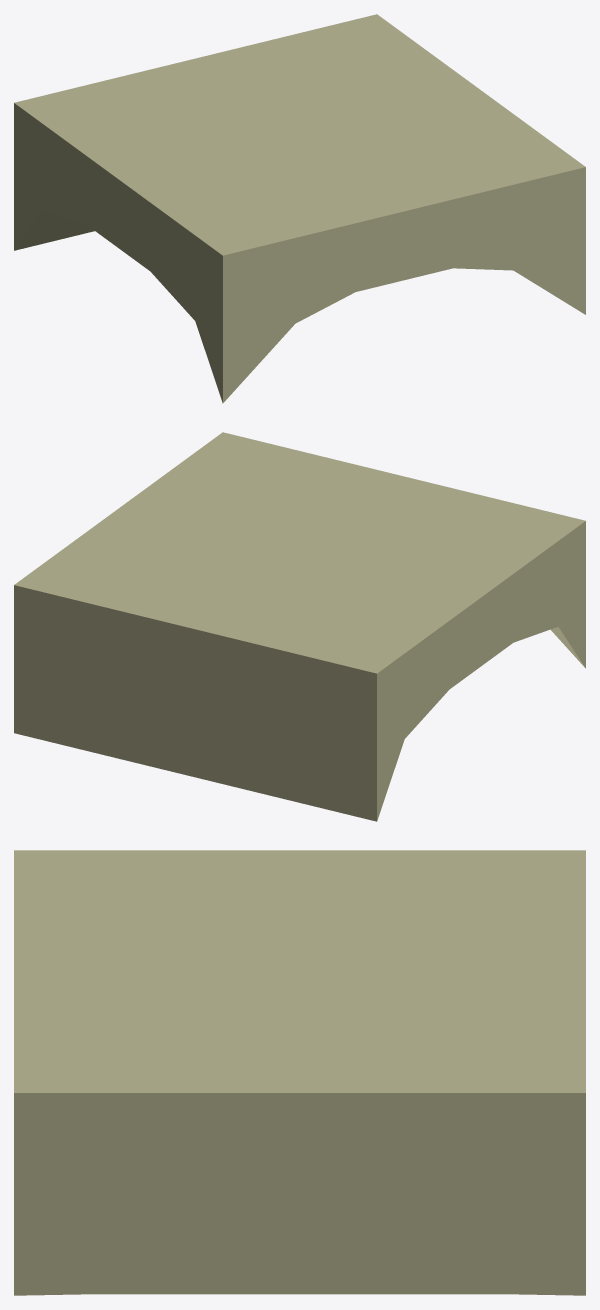
The model's file is roof L.fbx.
The picture shows the model from 3 angles, top to bottom: view 1: azimuth 30°, elevation 25°; view 2: azimuth 150°, elevation 25°; view 3: azimuth 270°, elevation 25°; orthographic projection. The views are drawn at different scales.
Visible parts, largest first — view 1: Roof T; view 2: Roof T; view 3: Roof T.
Boxes of the visible parts, left/top/right/bottom form: Roof T: left=14, top=14, right=585, bottom=403; Roof T: left=14, top=432, right=585, bottom=821; Roof T: left=14, top=850, right=585, bottom=1295.
Size of the model in its own units: 1030 by 401 by 1026.
